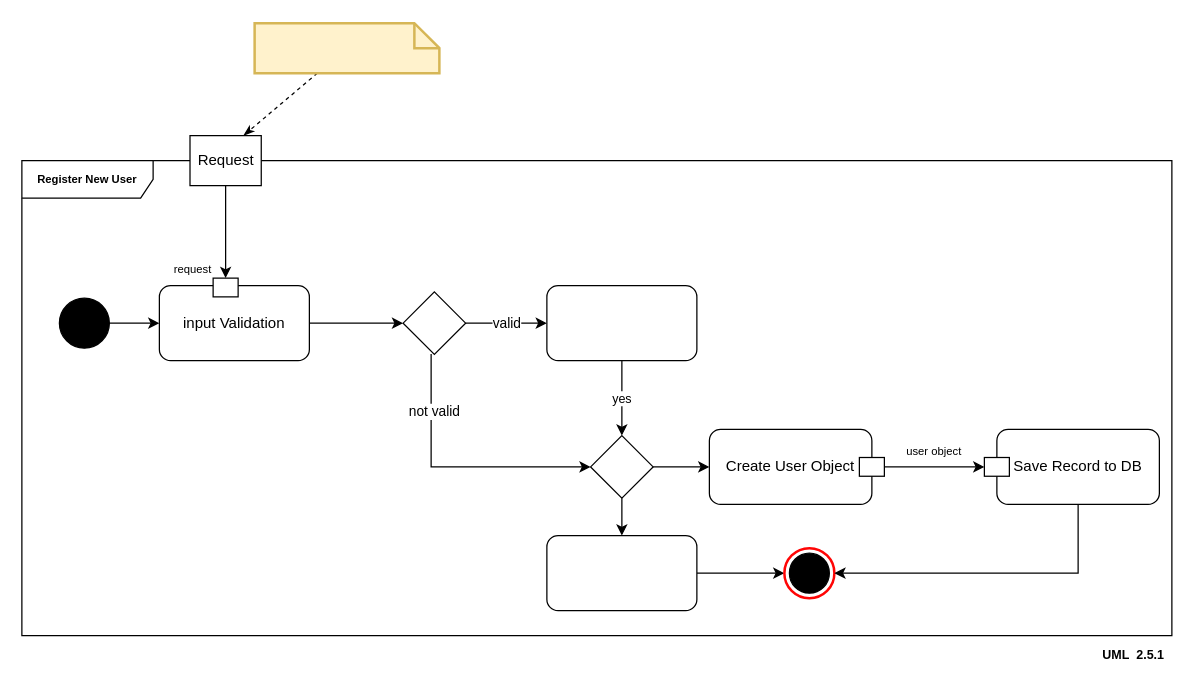
This 1194x694 diagram has some shape labels left out. Each missing label, with the centre of its shape:
HTTP Request: point 346,47
is email exist in DB: point 621,322
Show Error: point 621,572
